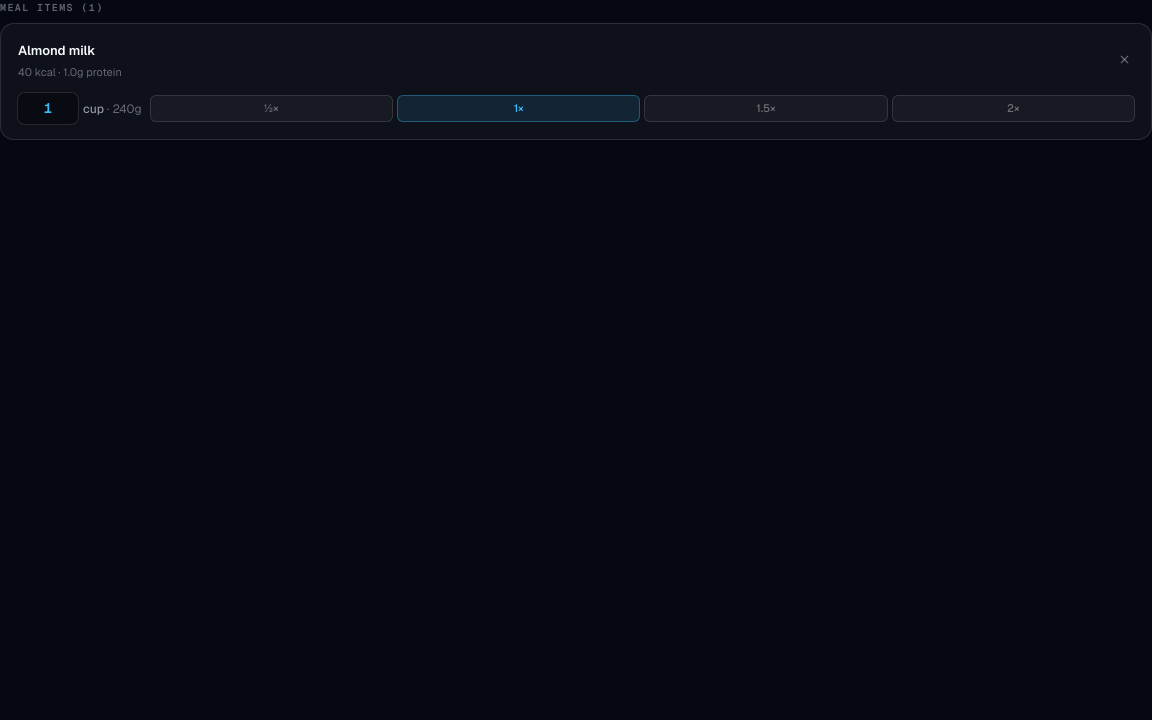
Scenario: DraftItemList portion unit › restores the derived quantity when the field loses focus
Clear the number field named "Portion in cup" at (48, 108), box x1=17 y1=92 x2=79 y2=125
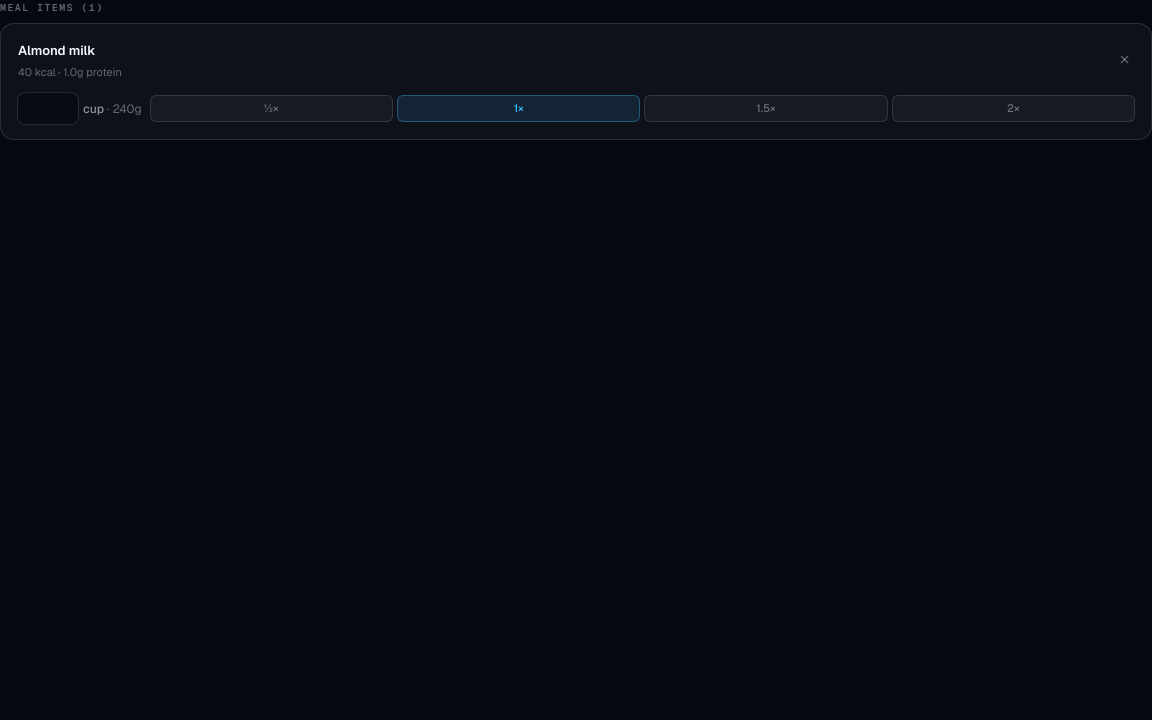
Leave the number field named "Portion in cup", box x1=17 y1=92 x2=79 y2=125
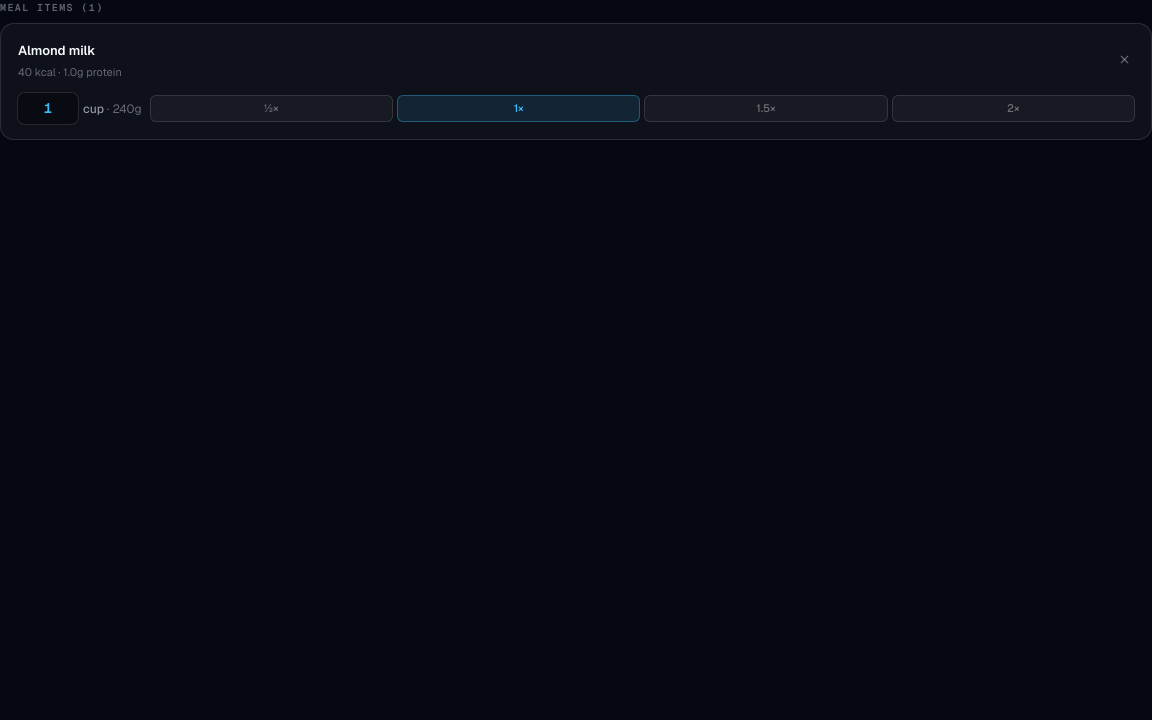
Now the number field named "Portion in cup" holds "1", box x1=17 y1=92 x2=79 y2=125
